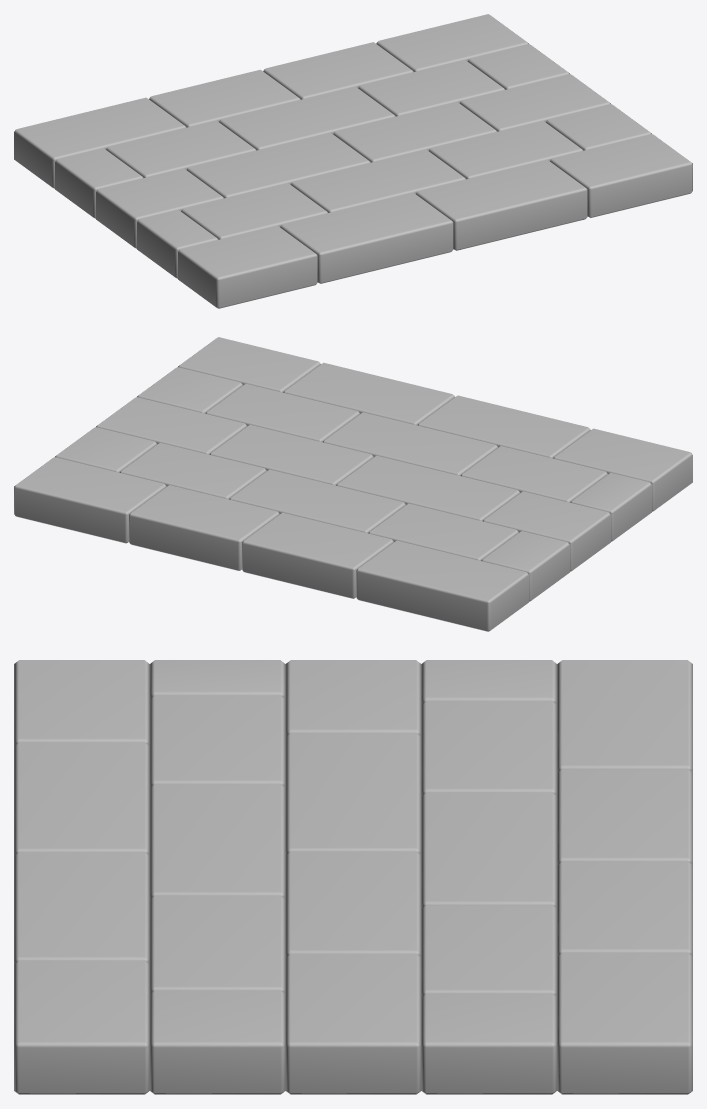
The model's file is City_20_Base_1.glb.
3 renders of one model, top to bottom at view 1: azimuth 30°, elevation 25°; view 2: azimuth 150°, elevation 25°; view 3: azimuth 270°, elevation 25°, orthographic. The views are drawn at different scales.
Parts seen in each view (by area): view 1: City_20_Base_1; view 2: City_20_Base_1; view 3: City_20_Base_1.
Part boxes in pixels (x1,y1,x2,y2): City_20_Base_1: (14,14,692,308); City_20_Base_1: (14,337,692,631); City_20_Base_1: (14,660,692,1094).
Size of the model in its own units: 9.79 by 0.6294 by 7.28.
1 material, 1 textured.
